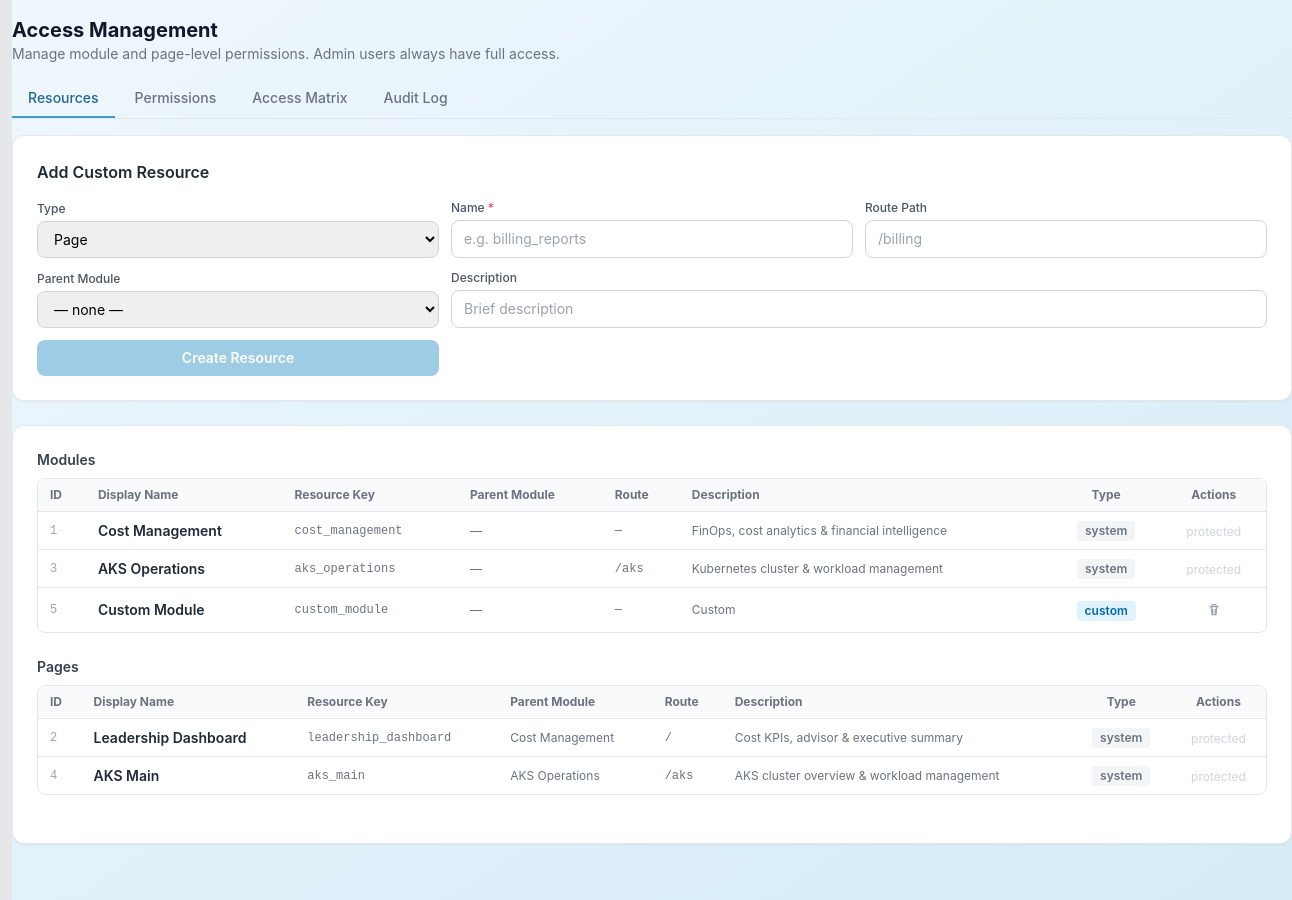
Scenario: Tab navigation › switches to Access Matrix tab
Click the button "Access Matrix" at {"x": 300, "y": 99}, box [236,80,364,118]
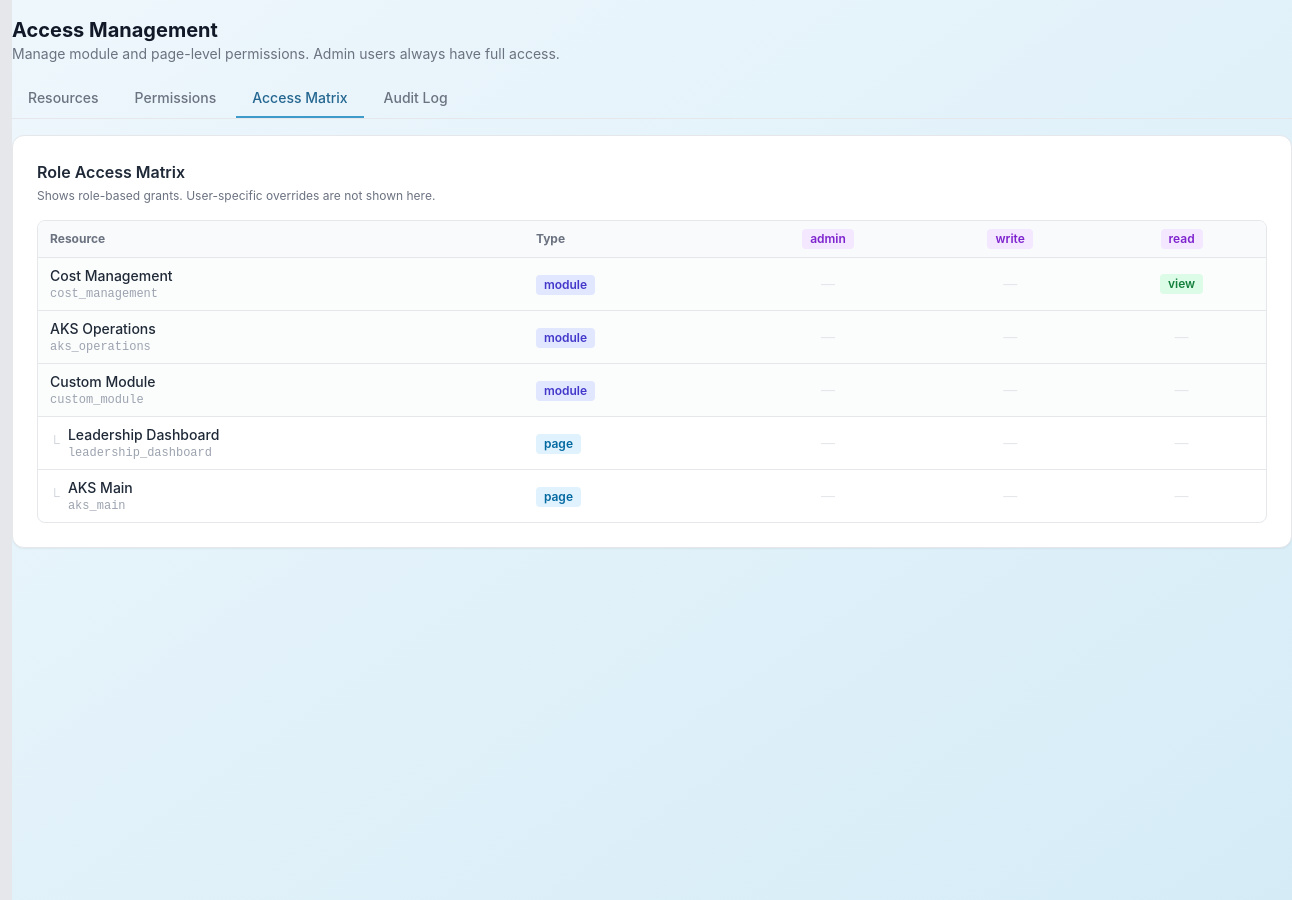
Expected: the heading "Role Access Matrix" is shown, [37,162,185,182]
